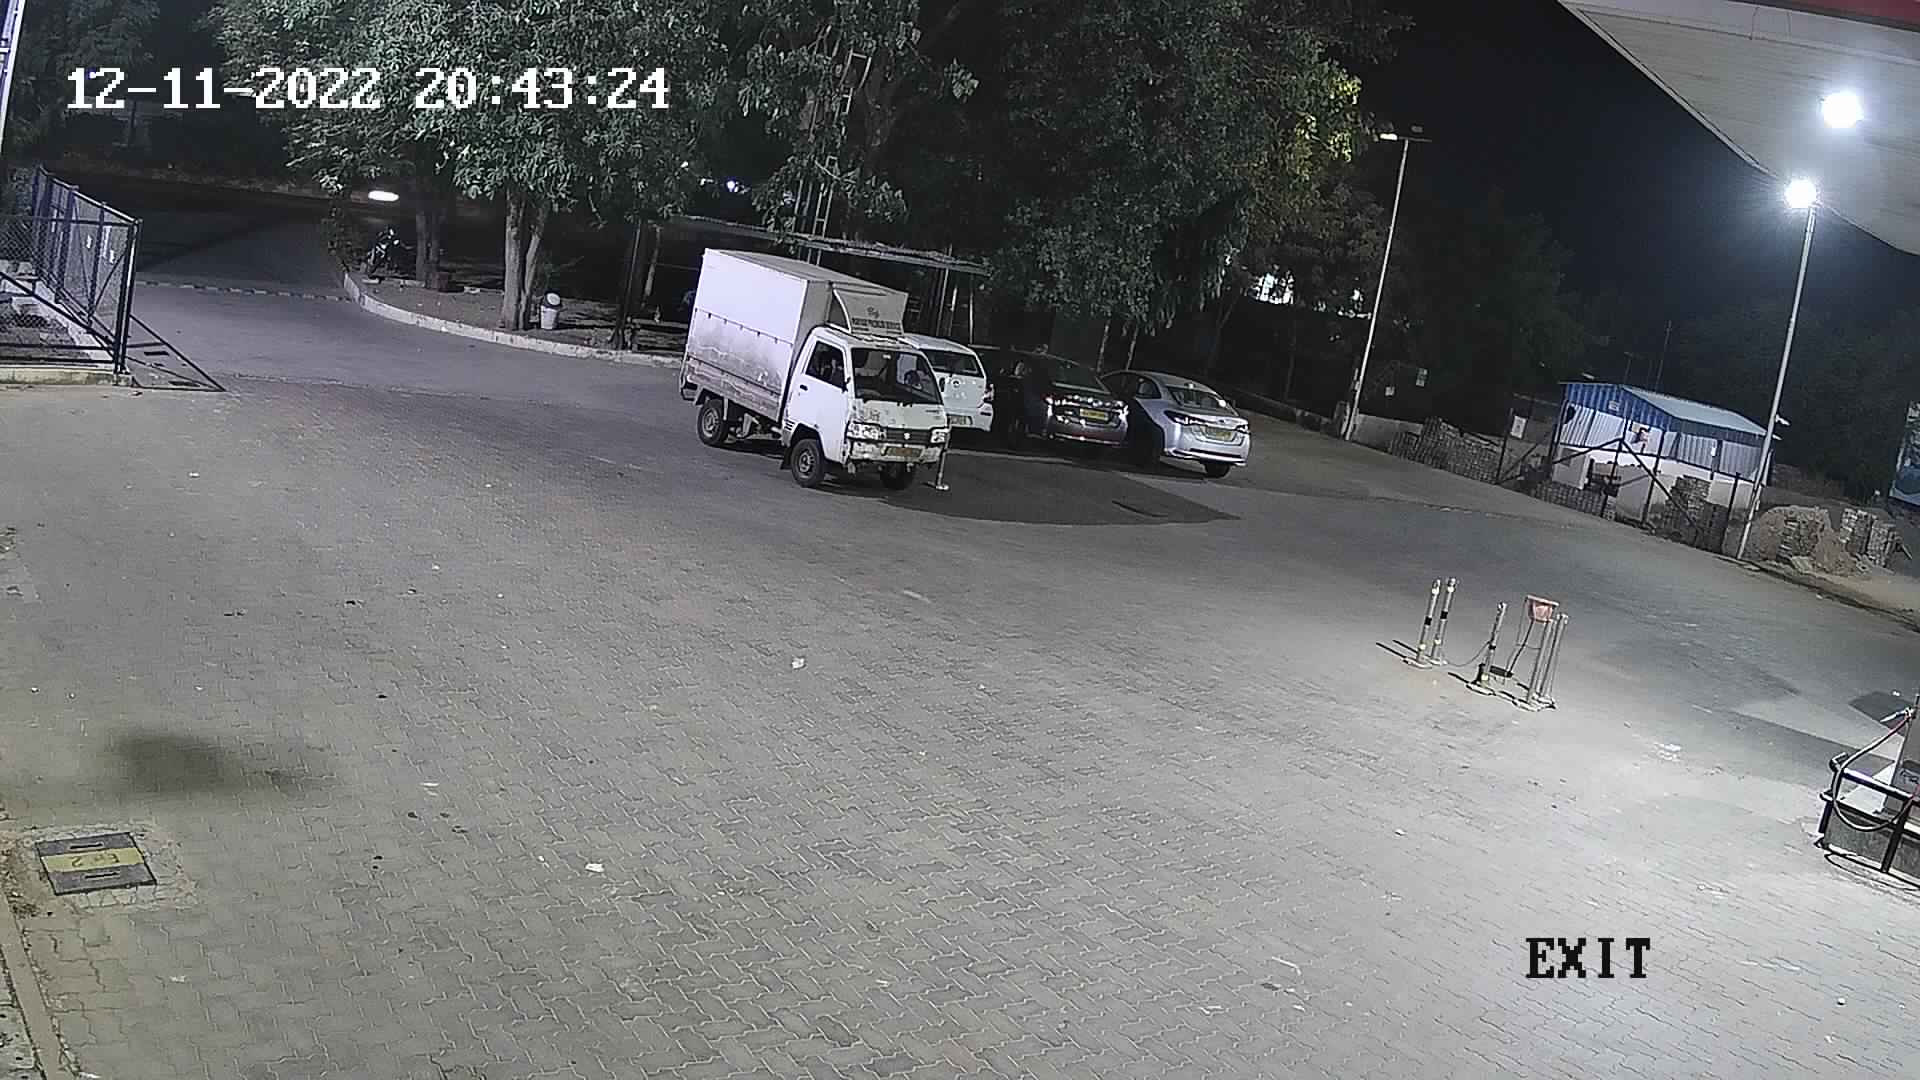Bike: (347, 196, 411, 286)
Car: (967, 340, 1131, 462), (1093, 365, 1255, 481), (893, 320, 1006, 455)
HMV: (667, 239, 968, 496)
